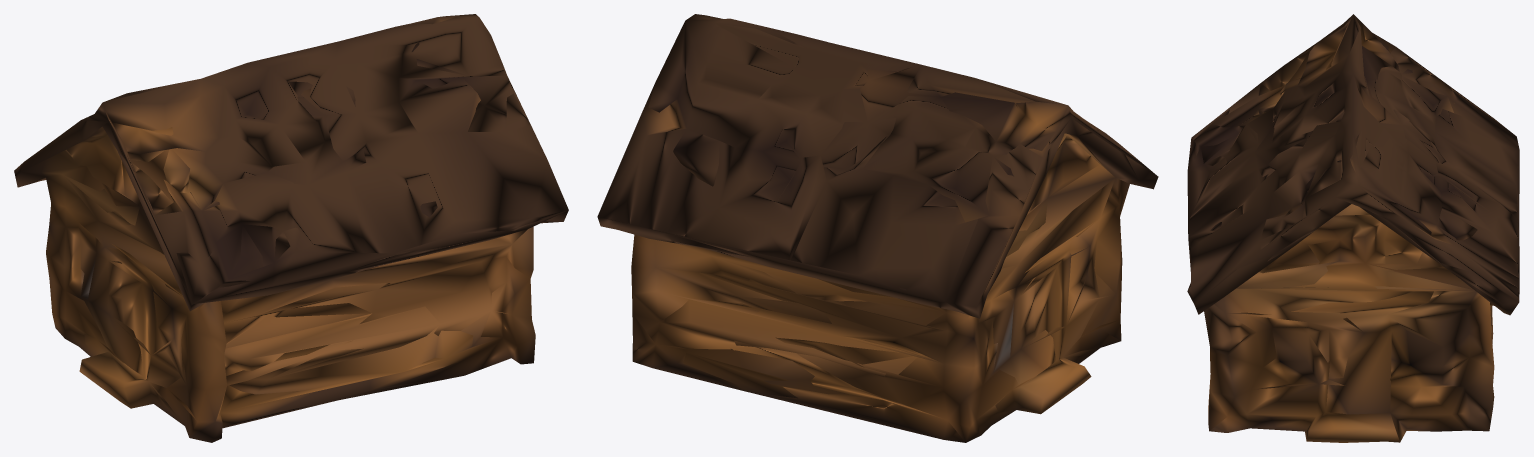
The model's file is gen3d-log-cabin-lod0.glb.
3 renders of one model, left to right at view 1: azimuth 30°, elevation 25°; view 2: azimuth 150°, elevation 25°; view 3: azimuth 270°, elevation 25°, orthographic. The views are drawn at different scales.
Visible parts, largest first — view 1: part_0; view 2: part_0; view 3: part_0.
Part boxes in pixels (x1,y1,x2,y2): part_0: (14, 14, 568, 442); part_0: (597, 14, 1158, 442); part_0: (1187, 14, 1519, 442).
Size of the model in its own units: 1.35 by 0.9994 by 1.13.
